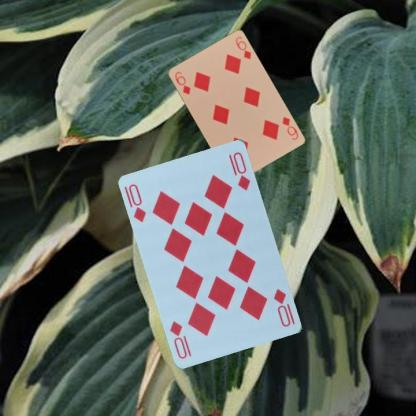10d: (122, 182, 148, 224), (271, 286, 296, 328)
6d: (279, 114, 299, 141), (172, 69, 191, 96)
